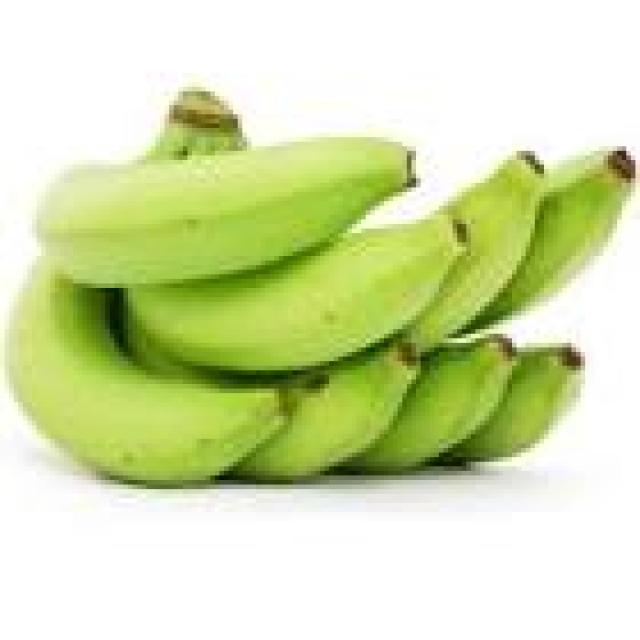banana: (10, 266, 283, 484), (37, 138, 415, 287), (128, 215, 466, 370), (471, 151, 635, 329), (412, 151, 543, 351), (234, 343, 420, 479), (348, 334, 516, 470), (444, 348, 580, 461), (115, 298, 210, 379), (147, 87, 246, 159)
